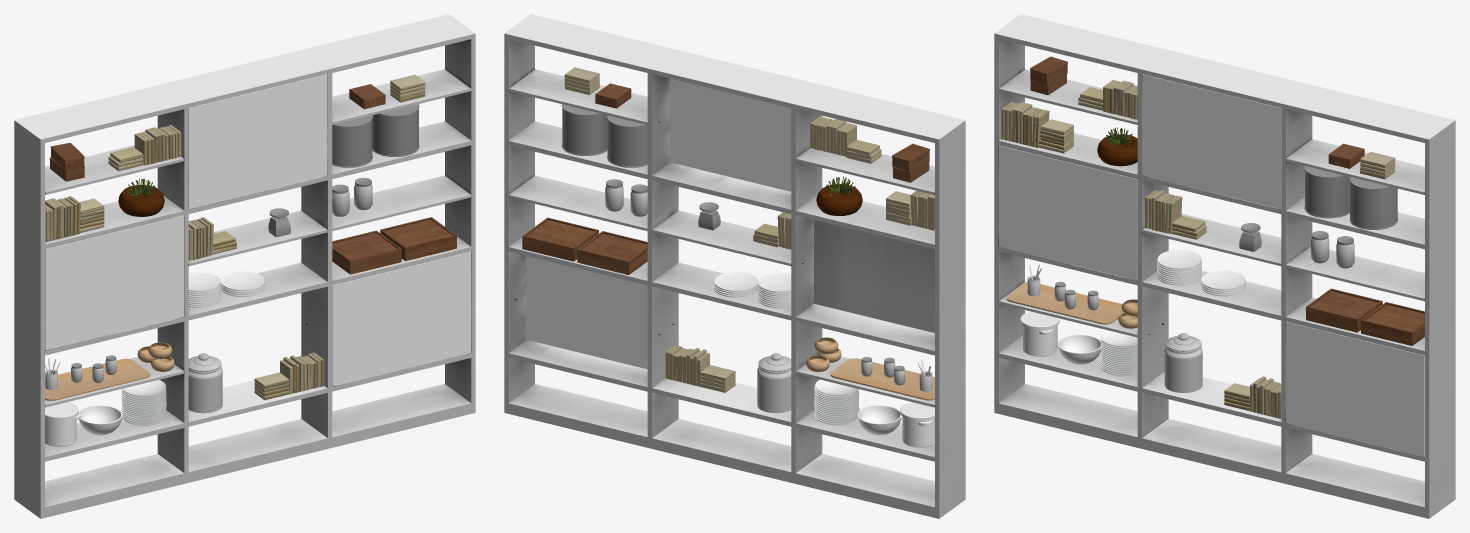
File: shelf2.dae
The picture shows the model from 3 angles, left to right: view 1: azimuth 30°, elevation 25°; view 2: azimuth 150°, elevation 25°; view 3: azimuth 330°, elevation 25°; orthographic projection.
Visible parts, largest first — view 1: shelf; view 2: shelf; view 3: shelf.
Part boxes in pixels (left/top/right/bottom): shelf: left=14, top=14, right=475, bottom=518; shelf: left=504, top=14, right=965, bottom=518; shelf: left=994, top=14, right=1455, bottom=518.
Size of the model in its own units: 3 by 2.5 by 0.318.
